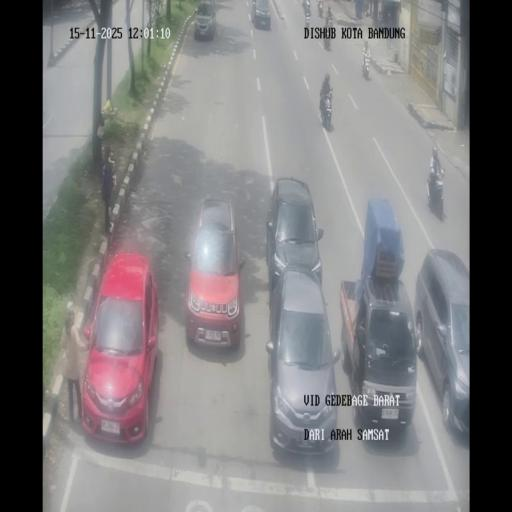car: (82, 252, 160, 444), (265, 267, 340, 457), (414, 251, 469, 440), (194, 2, 217, 40), (250, 0, 271, 29)
motorcycle: (427, 148, 444, 216), (319, 87, 333, 130), (322, 23, 332, 51), (362, 52, 370, 80), (325, 8, 334, 26), (304, 6, 311, 27), (362, 1, 369, 16), (318, 3, 324, 18), (378, 10, 383, 23)
truck: (340, 200, 417, 438)
